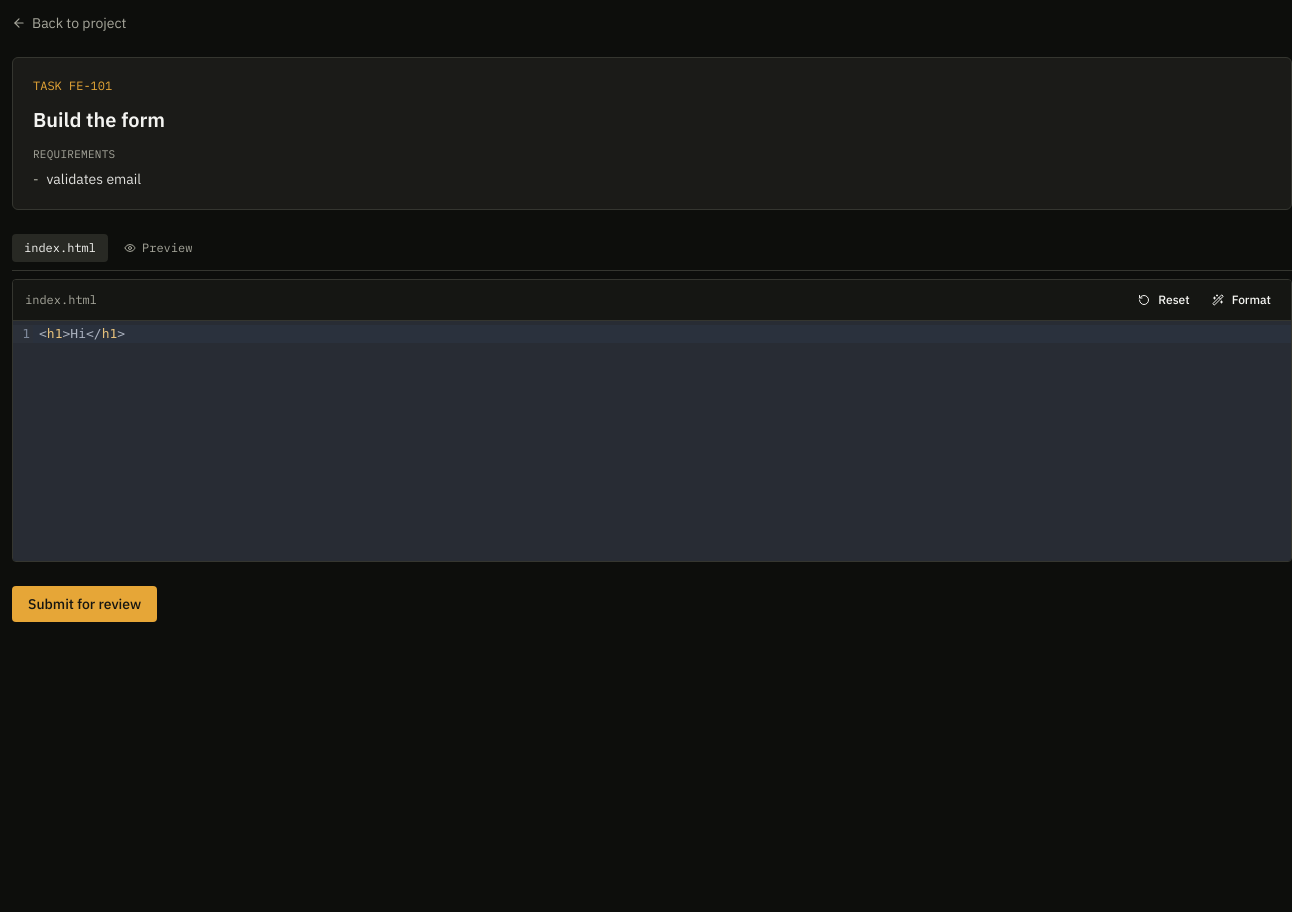
ProjectTaskRunner › submits, shows the returned review, and tracks the event
The image size is (1292, 912).
Step 1. Click the button "Submit for review" → (85, 604), box x1=12 y1=586 x2=157 y2=622
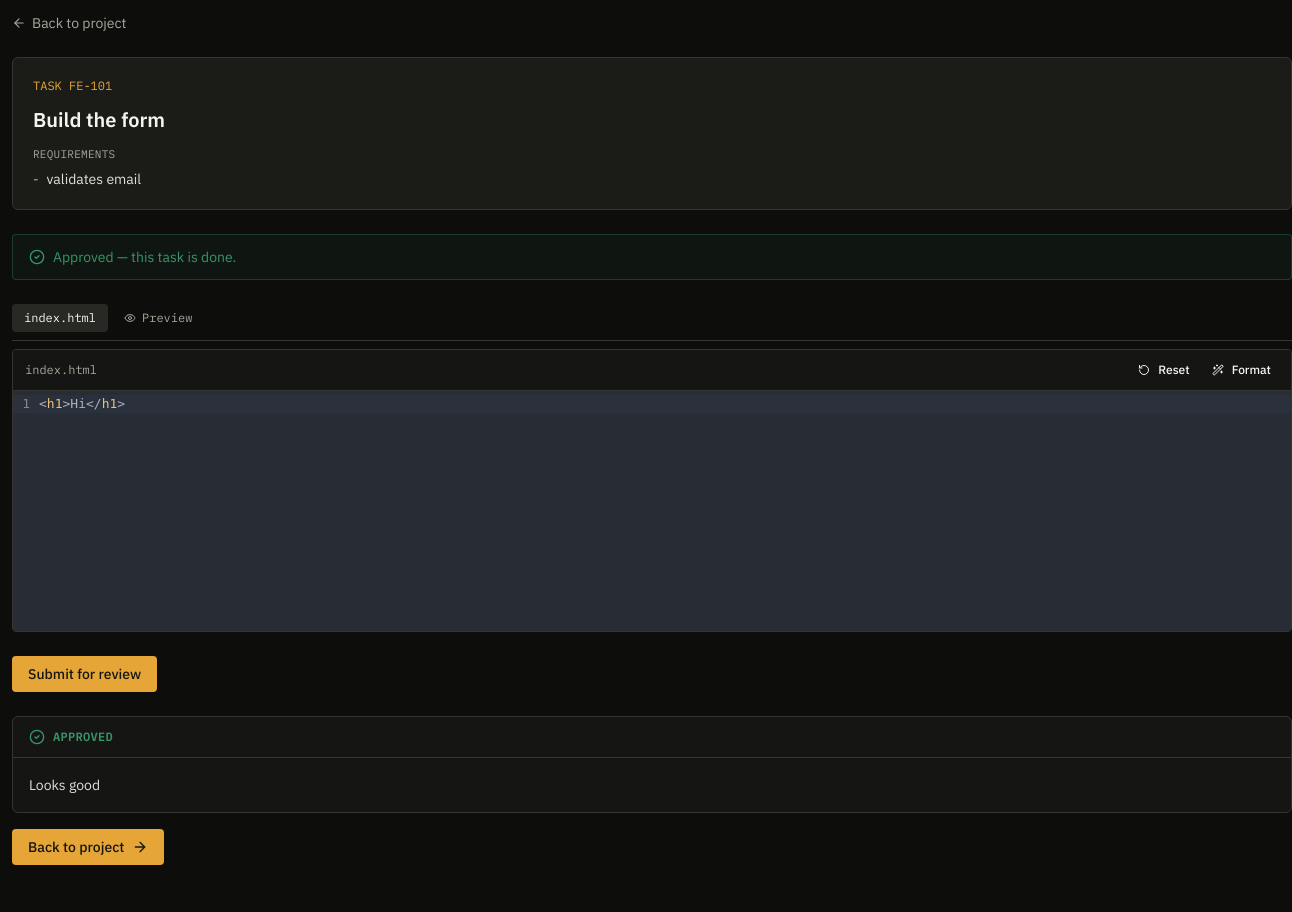
Now the text "Looks good" is shown, box x1=29 y1=776 x2=100 y2=794
